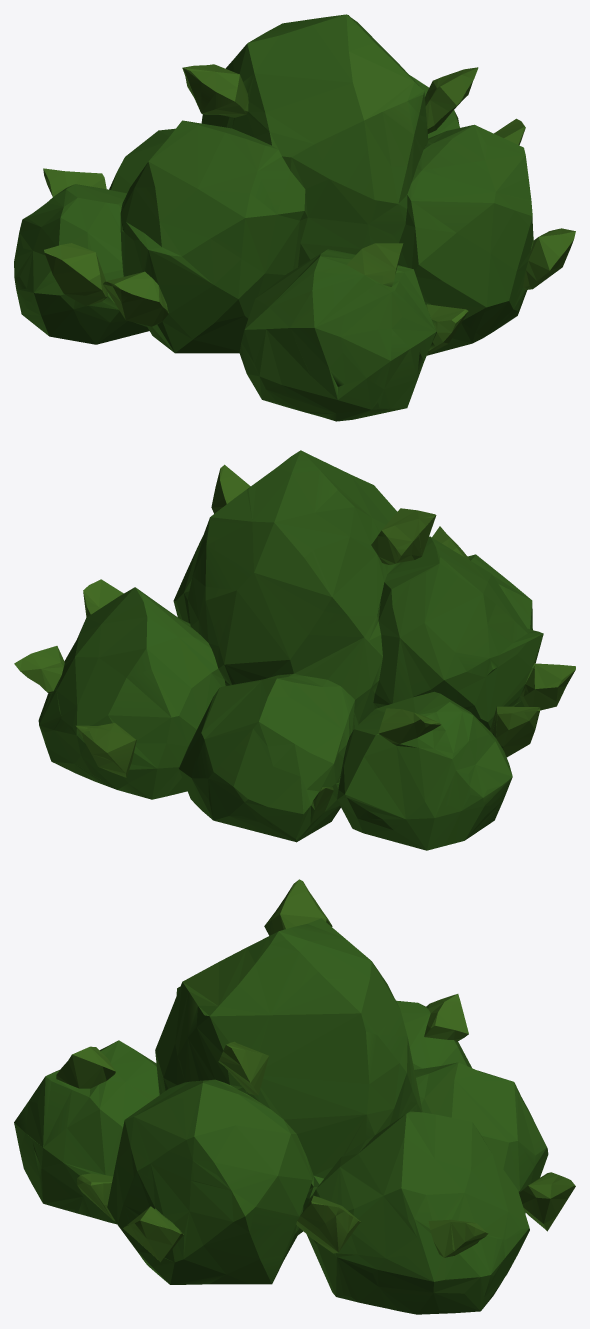
The model's file is bush1_lod.glb.
3 renders of one model, top to bottom at view 1: azimuth 30°, elevation 25°; view 2: azimuth 150°, elevation 25°; view 3: azimuth 270°, elevation 25°, orthographic. The views are drawn at different scales.
Visible parts, largest first — view 1: bush1_lod; view 2: bush1_lod; view 3: bush1_lod.
Boxes of the visible parts, left/top/right/bottom form: bush1_lod: left=14, top=14, right=575, bottom=421; bush1_lod: left=14, top=450, right=575, bottom=850; bush1_lod: left=14, top=879, right=575, bottom=1314.
Size of the model in its own units: 0.9968 by 0.5909 by 1.
1 material, 1 textured.
